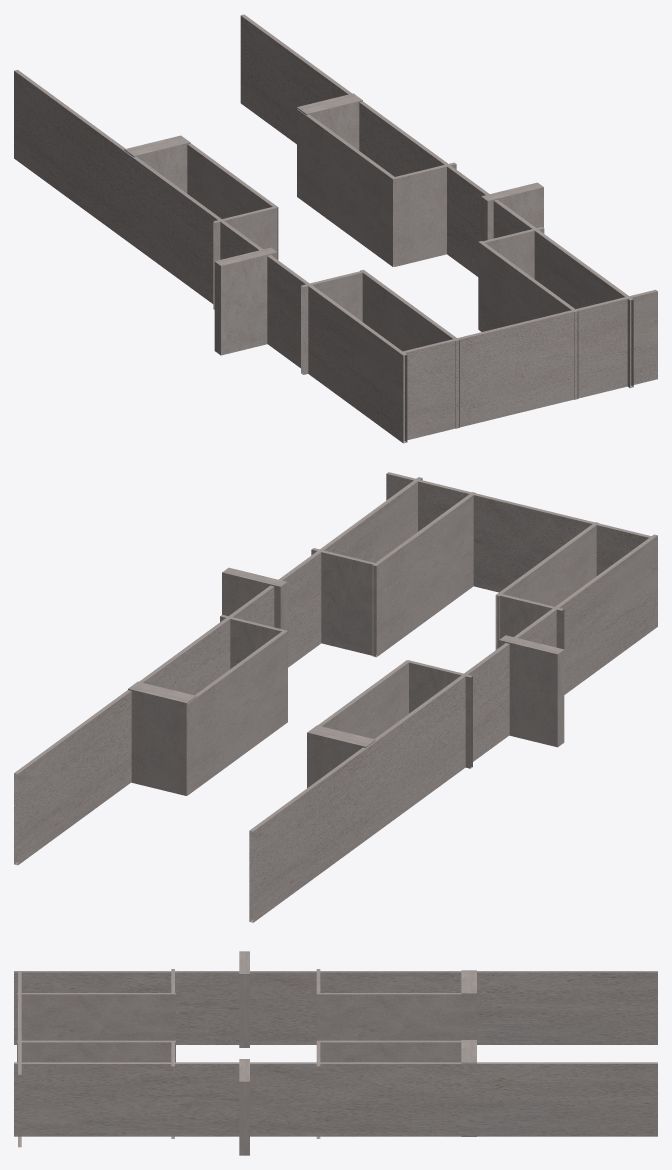
The model's file is 4TO Piso.fbx.
3 views of the same model, one above another, from view 1: azimuth 30°, elevation 25°; view 2: azimuth 150°, elevation 25°; view 3: azimuth 270°, elevation 25° (orthographic). The views are drawn at different scales.
Parts seen in each view (by area): view 1: Cube.264, Cube.266, Cube.002, Cube.263, Cubo.002, Cube.003, Cube.006, Cube.004, Cube.001, Cube.007, Cubo.003, Cubo.001 (+3 smaller); view 2: Cube.264, Cube.002, Cube.266, Cube.003, Cube.263, Cubo, Cubo.002, Cube.254, Cube.004, Cube.001, Cube.008, Cubo.001 (+3 smaller); view 3: Cube.002, Cube.264, Cube.001, Cube.004, Cube.003, Cube.263, Cubo.002, Cubo.003, Cube.266, Cubo.001, Cubo.
Part boxes in pixels (bbox=[...]): Cube.264: bbox=[14, 69, 407, 443]; Cube.266: bbox=[400, 289, 657, 441]; Cube.002: bbox=[240, 14, 633, 388]; Cube.263: bbox=[297, 109, 394, 266]; Cubo.002: bbox=[214, 247, 277, 355]; Cube.003: bbox=[478, 241, 578, 399]; Cube.006: bbox=[392, 162, 456, 266]; Cube.004: bbox=[360, 269, 459, 428]; Cube.001: bbox=[187, 143, 278, 259]; Cube.007: bbox=[301, 271, 364, 374]; Cubo.003: bbox=[481, 182, 543, 240]; Cubo.001: bbox=[124, 135, 190, 193]; Cube.264: bbox=[249, 534, 657, 922]; Cube.002: bbox=[14, 477, 422, 865]; Cube.266: bbox=[386, 472, 653, 592]; Cube.003: bbox=[372, 492, 475, 657]; Cube.263: bbox=[187, 631, 287, 795]; Cubo: bbox=[128, 681, 196, 795]; Cubo.002: bbox=[499, 635, 564, 747]; Cube.254: bbox=[311, 548, 377, 656]; Cube.004: bbox=[495, 522, 598, 649]; Cube.001: bbox=[318, 660, 408, 738]; Cube.008: bbox=[406, 660, 472, 768]; Cubo.001: bbox=[307, 725, 375, 787]; Cube.002: bbox=[14, 1062, 657, 1136]; Cube.264: bbox=[14, 971, 657, 1044]; Cube.001: bbox=[317, 993, 475, 1040]; Cube.004: bbox=[17, 993, 175, 1040]; Cube.003: bbox=[17, 1040, 175, 1062]; Cube.263: bbox=[317, 1040, 461, 1062]; Cubo.002: bbox=[239, 951, 249, 1047]; Cubo.003: bbox=[239, 1059, 249, 1155]; Cube.266: bbox=[18, 971, 21, 1147]; Cubo.001: bbox=[461, 970, 476, 1039]; Cubo: bbox=[461, 1040, 476, 1136].
Size of the model in its own units: 847 by 224 by 1767.
